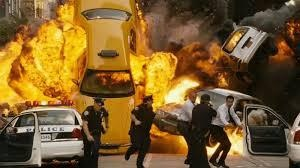fire: (1, 2, 90, 112), (126, 50, 199, 108), (204, 121, 247, 157)
